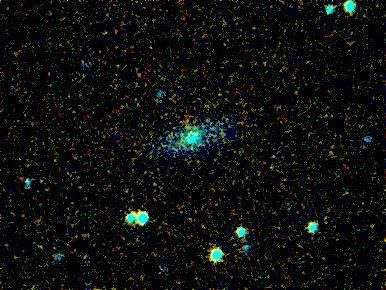star: (178, 135, 208, 165)
